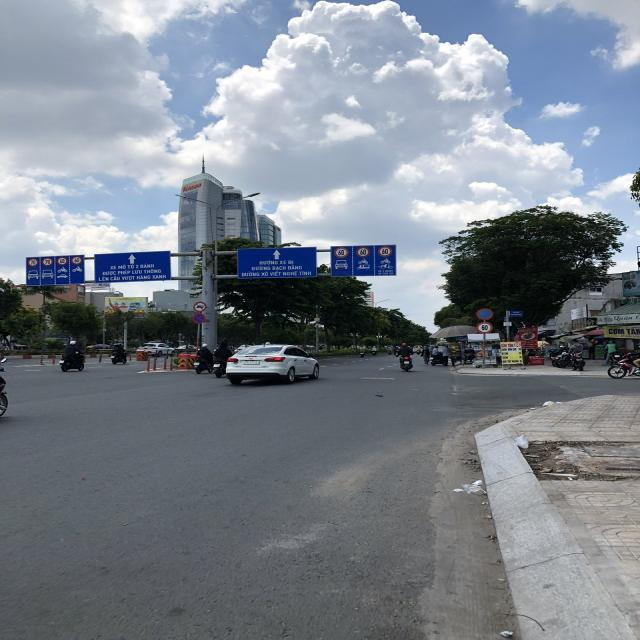Bien bao cam dung xe va do xe: (192, 312, 207, 324)
Bien bao cam xe oto tai: (192, 301, 207, 312)
Bien bao toc do toi da cho phep: (475, 321, 496, 334), (354, 246, 374, 258), (333, 246, 350, 260), (376, 245, 394, 257), (26, 257, 39, 268), (40, 256, 54, 266), (56, 256, 69, 266), (70, 256, 83, 264)
